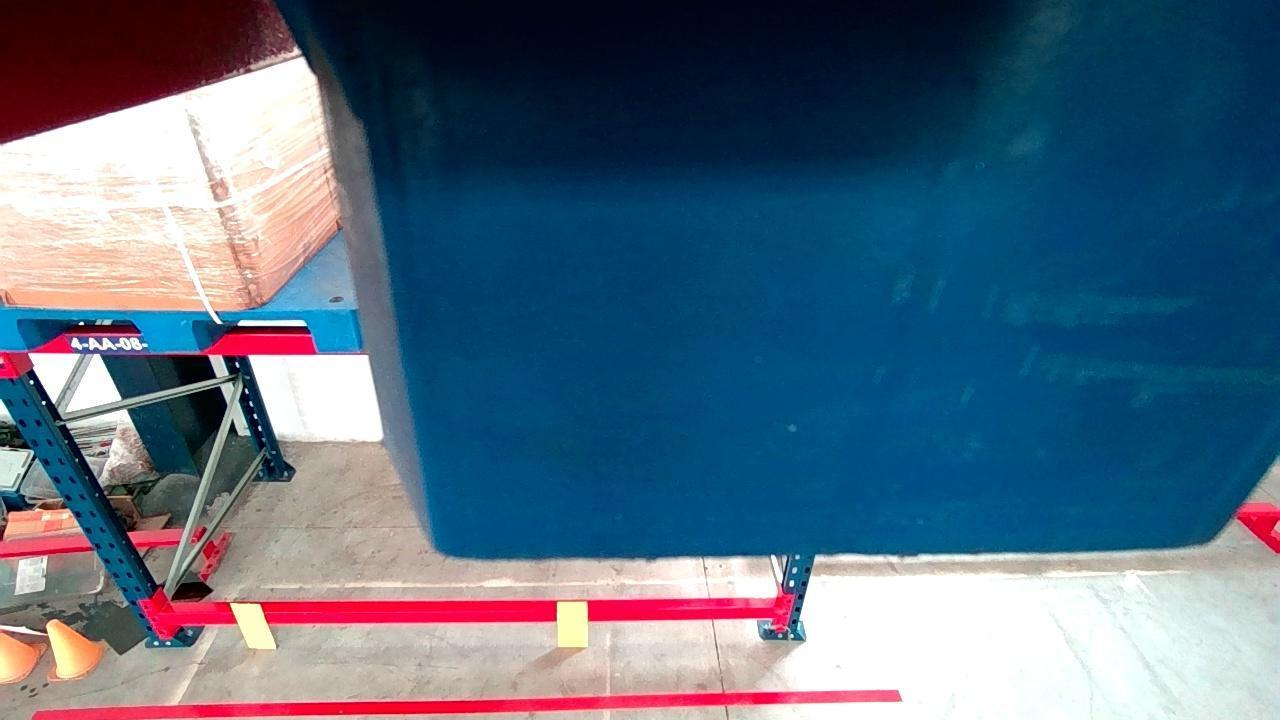h_rack: (158, 603, 783, 625), (0, 324, 367, 357)
orange_strip: (226, 599, 277, 649), (559, 601, 588, 648)
red_line: (30, 688, 905, 720)
small_pallet: (0, 305, 365, 352)
